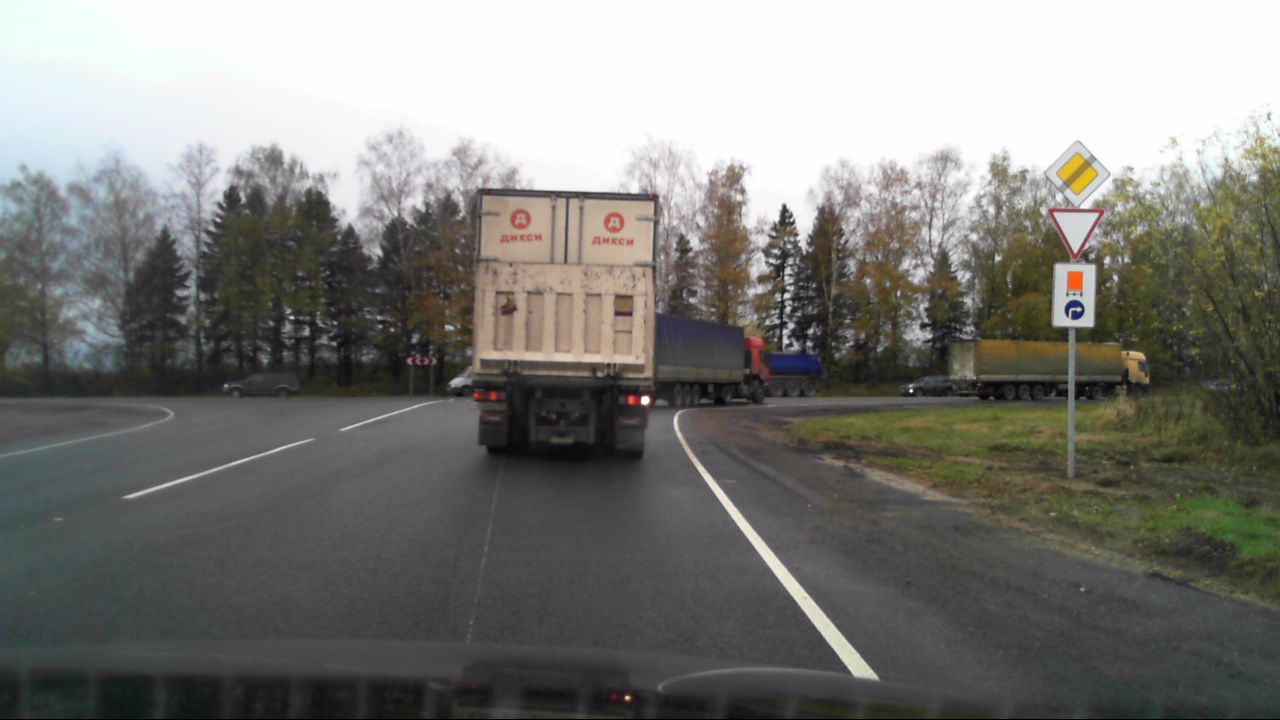main road: (1046, 141, 1109, 208)
